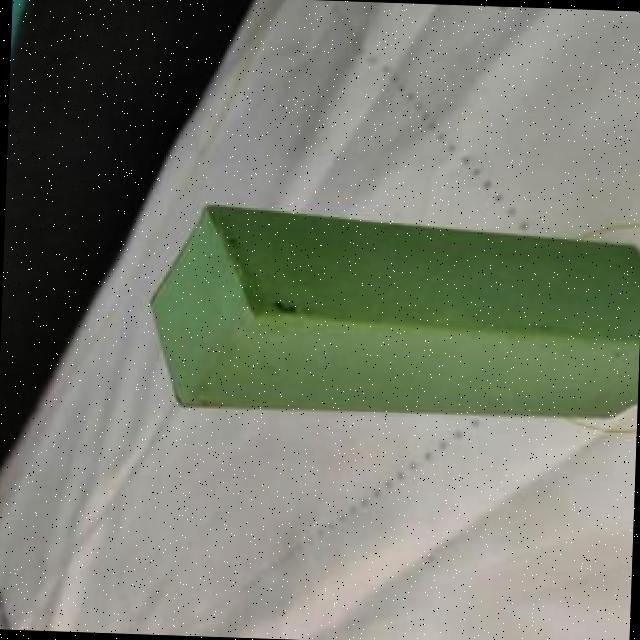greenbox: (141, 200, 640, 425)
